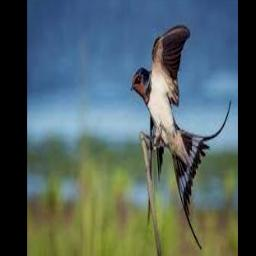Swallow: (132, 26, 231, 252)
